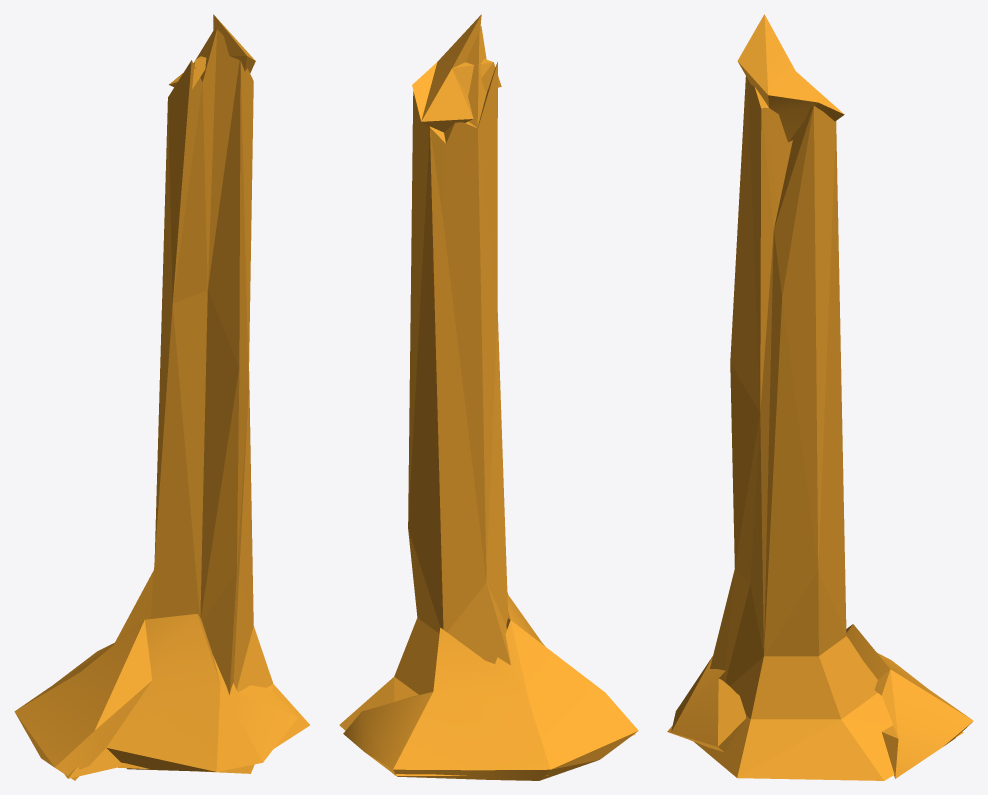
Rendered from SM_Tree_Spruce_Broken_A_Snow.fbx.
3 views of the same model, side by side, from view 1: azimuth 30°, elevation 25°; view 2: azimuth 150°, elevation 25°; view 3: azimuth 270°, elevation 25° (orthographic). The views are drawn at different scales.
Visible parts, largest first — view 1: tree-spruce-broken-a-snow; view 2: tree-spruce-broken-a-snow; view 3: tree-spruce-broken-a-snow.
Part boxes in pixels (left/top/right/bottom): tree-spruce-broken-a-snow: left=14, top=14, right=310, bottom=780; tree-spruce-broken-a-snow: left=339, top=14, right=638, bottom=780; tree-spruce-broken-a-snow: left=667, top=14, right=973, bottom=780.
Bounding box in the file's own units: 1.32 × 3.65 × 1.39.
